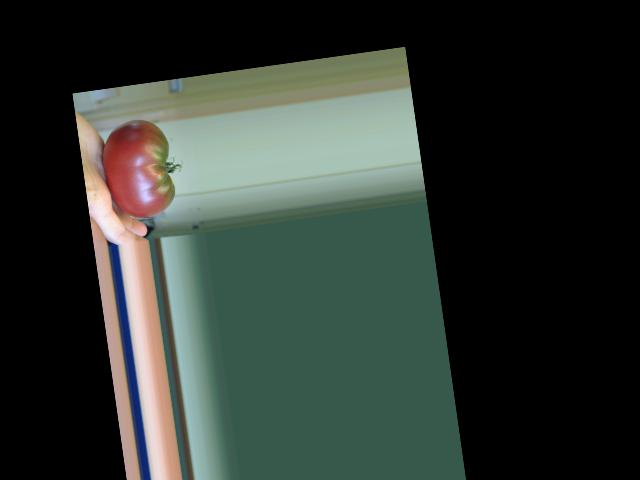tomato: (97, 115, 178, 222)
